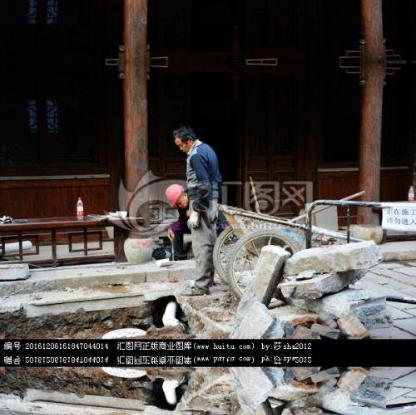helmet: (163, 182, 188, 213)
